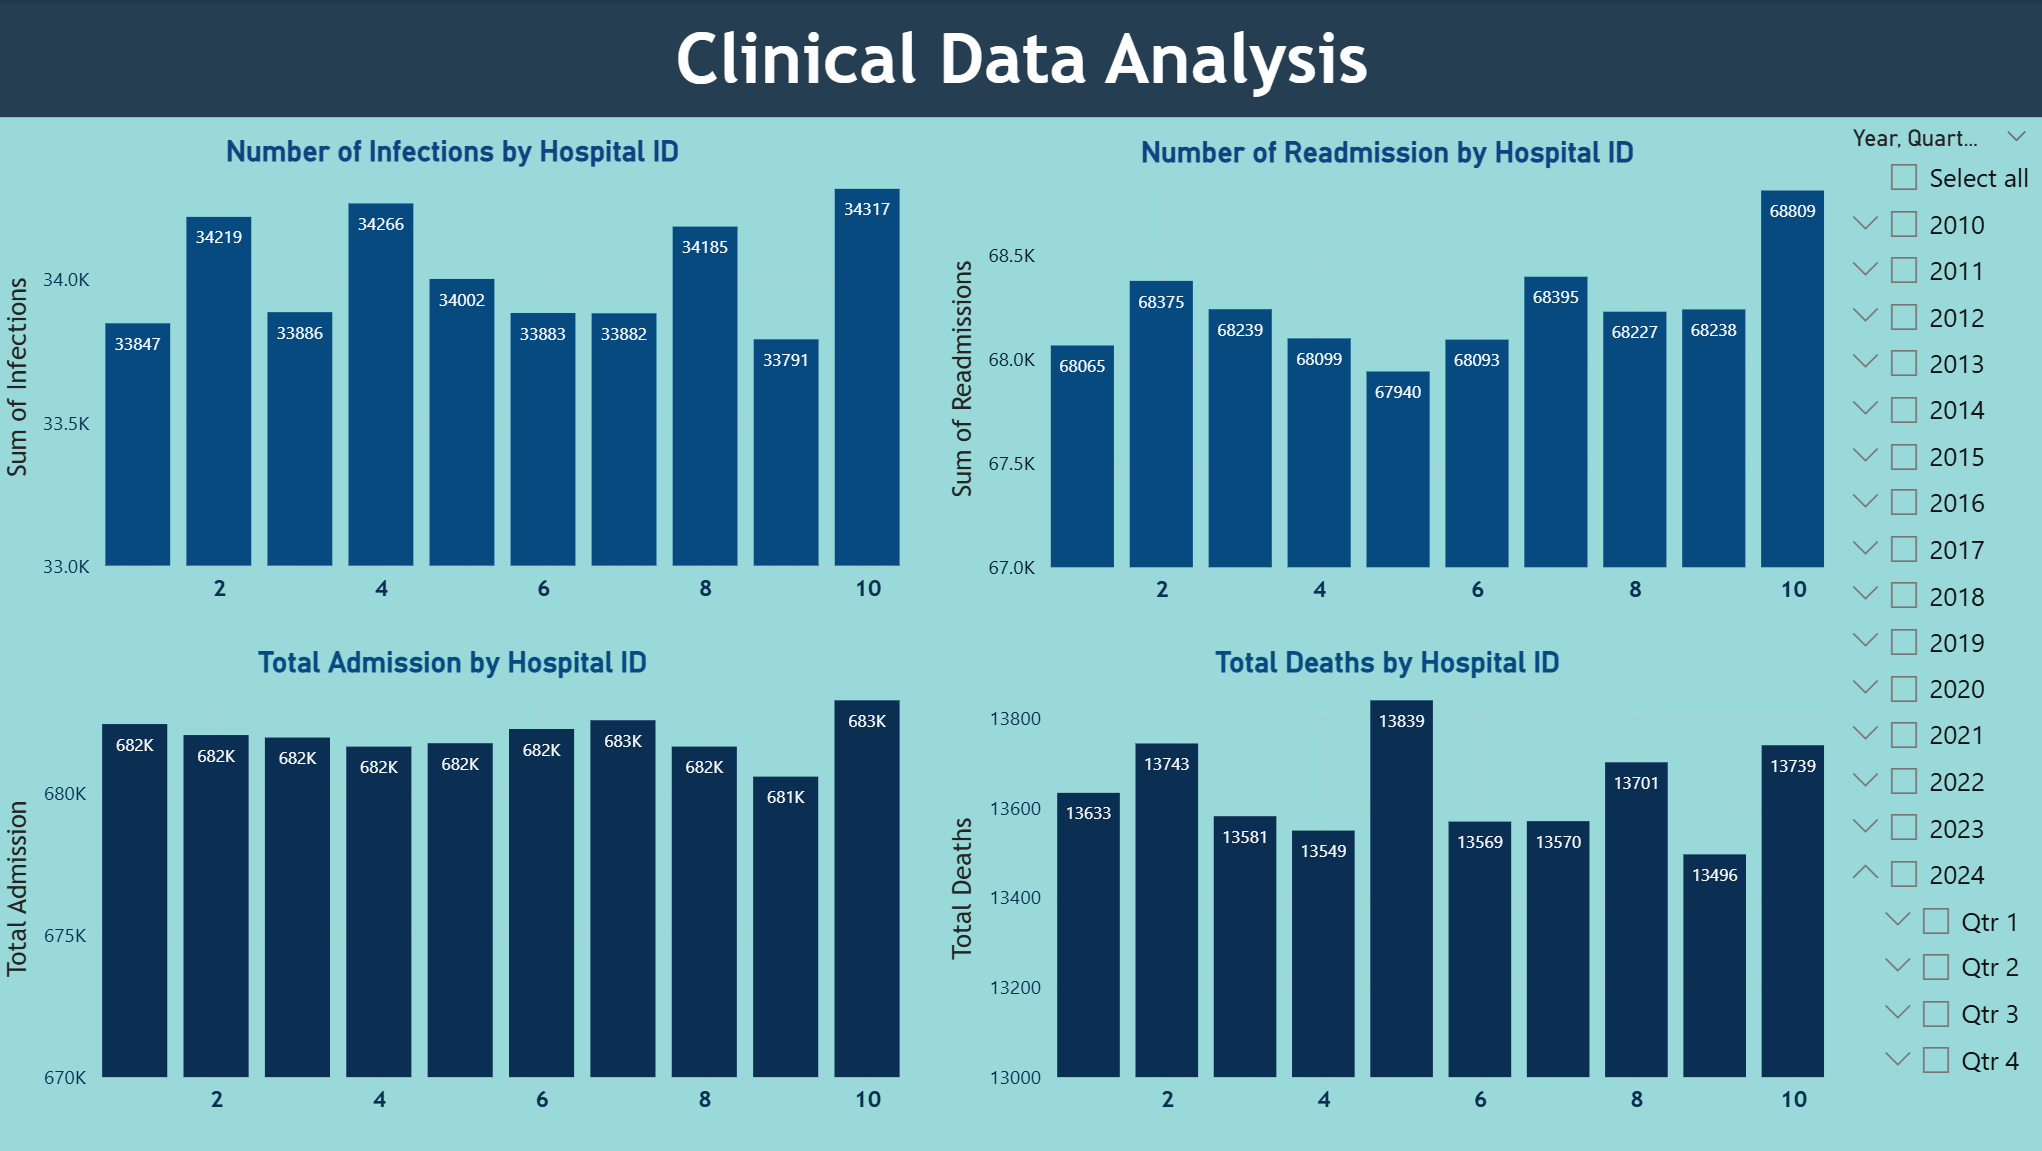

The page's visual inventory and layout, read from the dashboard file:
{"tool":"powerbi","page":{"name":"Hospital Analysis","canvas":[1280,720],"ordinal":0},"visuals":[{"type":"shape","box":[0,0,1279.9,73.1],"z":0},{"type":"columnChart","title":"Number of Infections by Hospital ID","fields":{"Category":["Query1.HospitalID"],"Y":["Sum(Query1.Infections)"]},"box":[0,83.8,568.6,300.8],"z":1000},{"type":"columnChart","title":"Number of Readmission by Hospital ID","fields":{"Category":["Query1.HospitalID"],"Y":["Sum(Query1.Readmissions)"]},"box":[589.8,84.9,555.6,300.8],"z":2000},{"type":"slicer","fields":{"Values":["Query1.AdmissionDate.Variation.Date Hierarchy.Year","Query1.AdmissionDate.Variation.Date Hierarchy.Quarter","Query1.AdmissionDate.Variation.Date Hierarchy.Month"]},"box":[1144.9,73.6,134.4,615.6],"z":3000},{"type":"columnChart","title":"Total Admission by Hospital ID","fields":{"Category":["Query1.HospitalID"],"Y":["Sum(Query1.TotalAdmissions)"]},"box":[0,402.3,568.6,300.8],"z":4000},{"type":"columnChart","title":"Total Deaths by Hospital ID","fields":{"Category":["Query1.HospitalID"],"Y":["Sum(Query1.TotalDeaths)"]},"box":[589.8,402.3,555.6,300.8],"z":5000}]}

Visuals, with their boxes in screenshot pixels (x1, y1, x2, y2), scaled from the page's 1280x720 canvas onto the 2042x1151 screenshot:
shape: x1=0 y1=0 x2=2041 y2=117
"Number of Infections by Hospital ID" columnChart: x1=0 y1=134 x2=907 y2=615
"Number of Readmission by Hospital ID" columnChart: x1=941 y1=136 x2=1827 y2=617
slicer - Query1.AdmissionDate.Variation.Date Hierarchy.Year x Query1.AdmissionDate.Variation.Date Hierarchy.Quarter: x1=1826 y1=118 x2=2041 y2=1102
"Total Admission by Hospital ID" columnChart: x1=0 y1=643 x2=907 y2=1124
"Total Deaths by Hospital ID" columnChart: x1=941 y1=643 x2=1827 y2=1124
